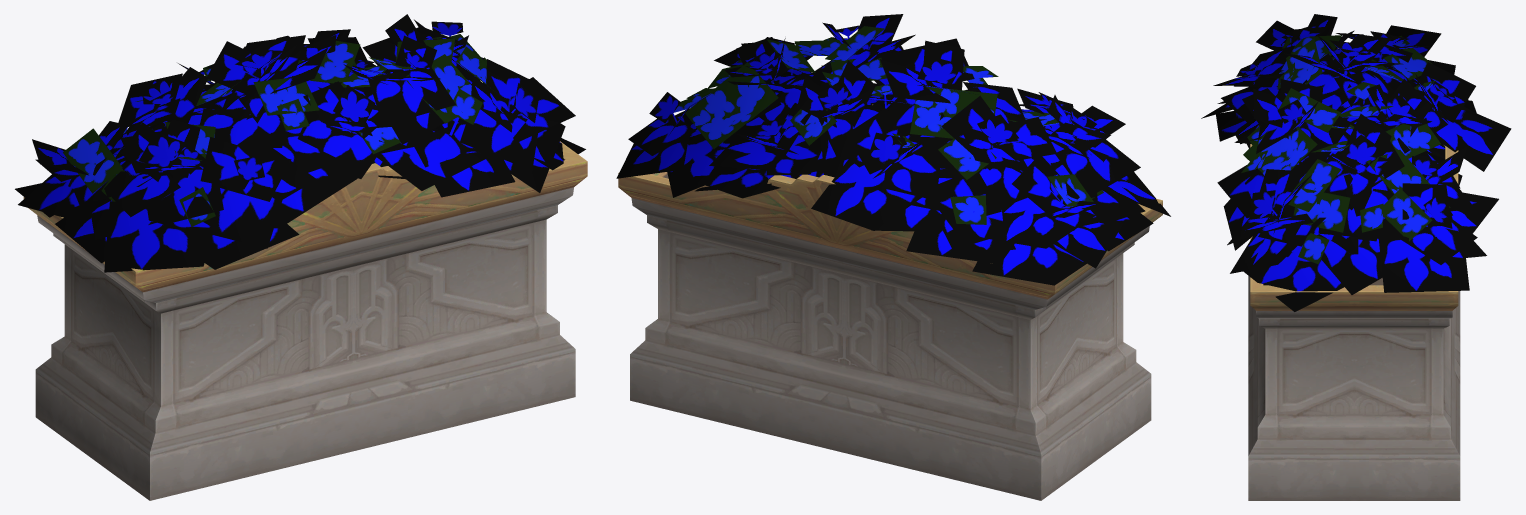
File: Homeworld_Exterior_Fd_Decoration_Prop_ChangHuatan_01_Vo.fbx
3 renders of one model, left to right at view 1: azimuth 30°, elevation 25°; view 2: azimuth 150°, elevation 25°; view 3: azimuth 270°, elevation 25°, orthographic. The views are drawn at different scales.
Visible parts, largest first — view 1: Area_Fd_Prop_FDC_Zchuapen_02_Vo, Area_Fd_Grass_Common_MGrass08_Lod0; view 2: Area_Fd_Prop_FDC_Zchuapen_02_Vo, Area_Fd_Grass_Common_MGrass08_Lod0; view 3: Area_Fd_Grass_Common_MGrass08_Lod0, Area_Fd_Prop_FDC_Zchuapen_02_Vo.
Part boxes in pixels (bbox=[...]): Area_Fd_Prop_FDC_Zchuapen_02_Vo: bbox=[23, 141, 587, 500]; Area_Fd_Grass_Common_MGrass08_Lod0: bbox=[15, 14, 585, 272]; Area_Fd_Prop_FDC_Zchuapen_02_Vo: bbox=[618, 104, 1162, 500]; Area_Fd_Grass_Common_MGrass08_Lod0: bbox=[616, 14, 1170, 285]; Area_Fd_Grass_Common_MGrass08_Lod0: bbox=[1201, 14, 1511, 311]; Area_Fd_Prop_FDC_Zchuapen_02_Vo: bbox=[1248, 144, 1460, 500].
Bounding box in the file's own units: 3.71 × 2.69 × 2.16.
